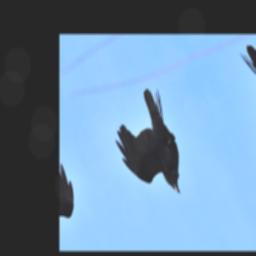Crow: (100, 84, 202, 209)
